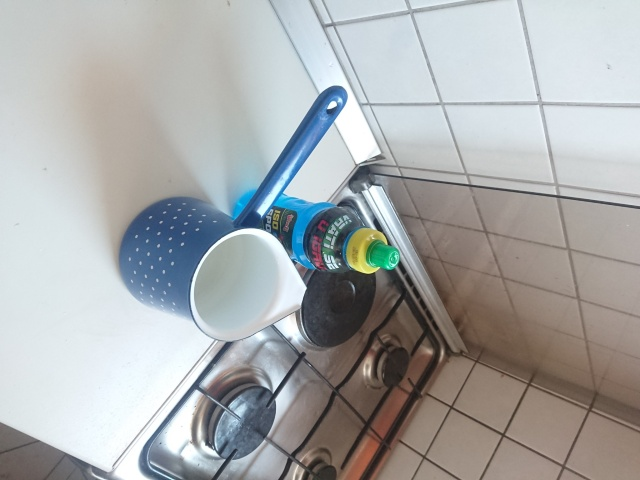Vindi Iso Sport Forest Strawberries 500mL: (229, 185, 401, 275)
